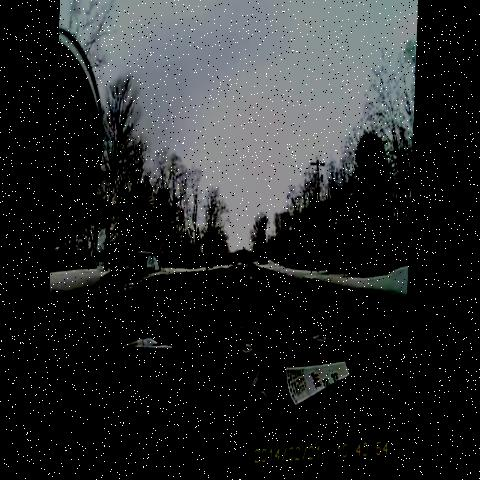pothole: (157, 283, 207, 348), (222, 317, 250, 352)
